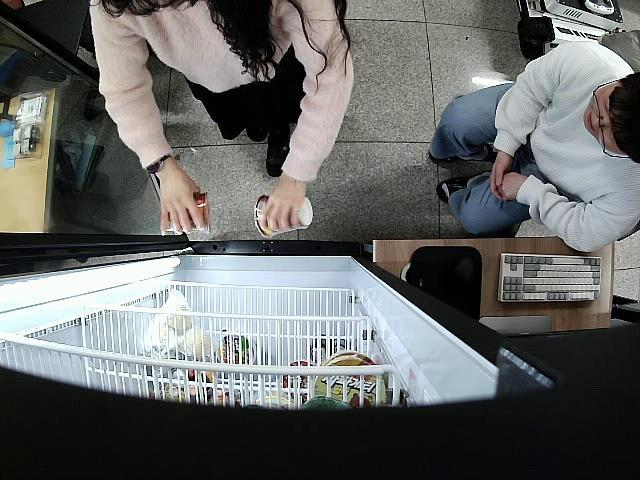06_nuguri_S: (254, 194, 312, 240), (164, 193, 212, 232)
